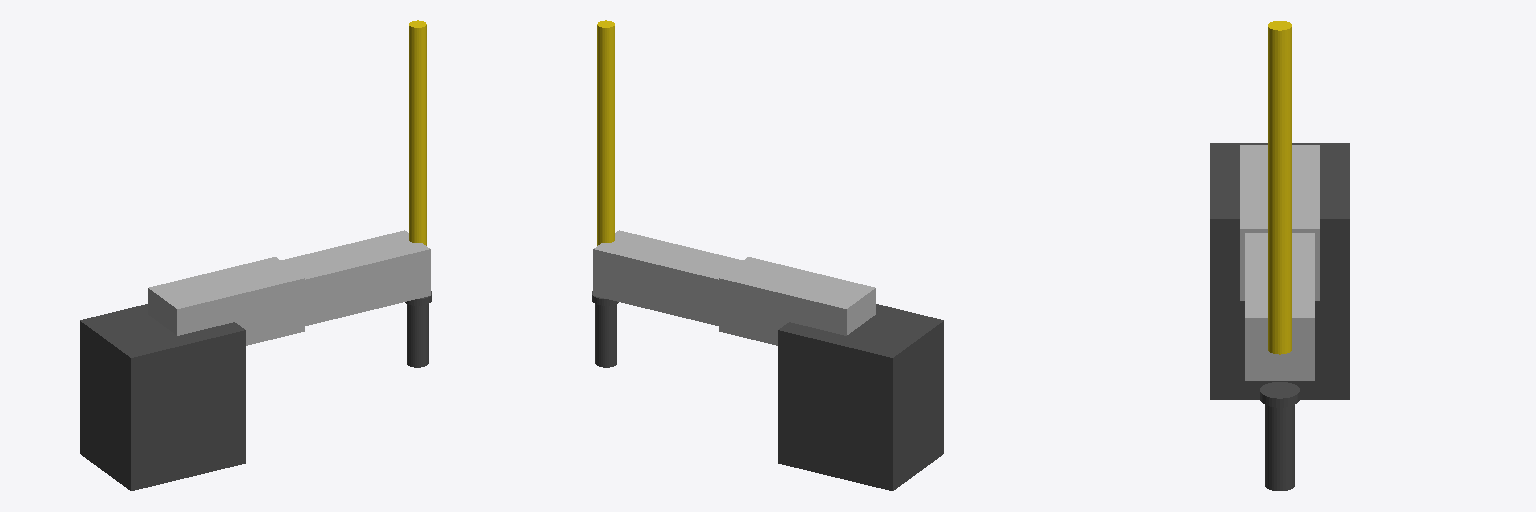
URDF robot description (scara_robot):
<?xml version="1.0"?>
<!--
  URDF de robot SCARA basado en el plano de especificaciones proporcionado.
  Origen del robot: (0, 0, 0) en la base, sobre la superficie de montaje.

  Mapeo de cotas del plano -> parámetros del modelo:
    - 200 mm (horizontal, x2)  -> longitud de link1 (J1->J2) y link2 (J2->J3) = 0.20 m c/u
    - 200 mm (base->hombro)   -> altura de base_link hasta el plano de J1/J2 = 0.20 m
    - 150 mm                  -> AJUSTE A PEDIDO DEL USUARIO: posición de la herramienta
                                  en el ORIGEN de J3 (q=0), z=0.15 m (no al ras del
                                  hombro). Se logra con un offset fijo z=-0.05 m en el
                                  origin de la junta J3 (0.20 - 0.05 = 0.15).
    - 200 mm (stroke)          -> AJUSTE A PEDIDO DEL USUARIO: recorrido de J3 = 0.20 m
                                  hacia abajo desde el origen (z=0.15), por lo que el
                                  límite superior de J3 pasa de 0.15 a 0.20 m. En el
                                  extremo del recorrido la herramienta queda en
                                  z = 0.15 - 0.20 = -0.05 m (por debajo del plano de
                                  la base): se acepta así explícitamente, aunque salga
                                  del volumen físico de la base tal como está modelada.
    - 558 mm ("Stroke of J3 axis")    -> altura total de envolvente en J3=0 (base ->
                                          tope de columna/vástago). La columna amarilla
                                          se reajustó (offset local 0.229 en vez de
                                          0.179) para seguir llegando a z=0.558 m en
                                          J3=0 pese al nuevo offset de la junta J3.

  SUPUESTOS (el plano no los acota, se agregan por ser estándar en un SCARA):
    - J1: revoluta, límite ±150° (ajustar según el modelo real)
    - J2: revoluta, límite ±150°
    - J3: prismática, recorrido de 0.15 m (arriba, origen) a -0.05 m (abajo, ver ajuste)
    - J4: revoluta de muñeca (rotación de herramienta), continua, no acotada en el plano
-->
<robot name="scara_robot">

  <material name="grey">
    <color rgba="0.75 0.75 0.75 1.0"/>
  </material>
  <material name="dark_grey">
    <color rgba="0.35 0.35 0.35 1.0"/>
  </material>
  <material name="yellow">
    <color rgba="0.9 0.8 0.1 1.0"/>
  </material>

  <!-- ================= BASE ================= -->
  <!-- Fija al mundo en (0,0,0). Altura de base = 0.20 m (cota "200" exterior) -->
  <link name="world"/>

  <joint name="base_fixed" type="fixed">
    <parent link="world"/>
    <child link="base_link"/>
    <origin xyz="0 0 0" rpy="0 0 0"/>
  </joint>

  <link name="base_link">
    <visual>
      <origin xyz="0 0 0.10" rpy="0 0 0"/>
      <geometry>
        <box size="0.18 0.14 0.20"/>
      </geometry>
      <material name="dark_grey"/>
    </visual>
    <collision>
      <origin xyz="0 0 0.10" rpy="0 0 0"/>
      <geometry>
        <box size="0.18 0.14 0.20"/>
      </geometry>
    </collision>
    <inertial>
      <origin xyz="0 0 0.10" rpy="0 0 0"/>
      <mass value="8.0"/>
      <inertia ixx="0.05" ixy="0" ixz="0" iyy="0.05" iyz="0" izz="0.05"/>
    </inertial>
  </link>

  <!-- ================= LINK 1 (J1 -> J2), 0.20 m ================= -->
  <joint name="J1" type="revolute">
    <parent link="base_link"/>
    <child link="link1"/>
    <!-- top de la base = 0.20 m, coincide con cota "200" -->
    <origin xyz="0 0 0.20" rpy="0 0 0"/>
    <axis xyz="0 0 1"/>
    <limit lower="-2.618" upper="2.618" effort="50" velocity="3.0"/>
  </joint>

  <link name="link1">
    <visual>
      <origin xyz="0.10 0 0" rpy="0 0 0"/>
      <geometry>
        <box size="0.20 0.08 0.08"/>
      </geometry>
      <material name="grey"/>
    </visual>
    <collision>
      <origin xyz="0.10 0 0" rpy="0 0 0"/>
      <geometry>
        <box size="0.20 0.08 0.08"/>
      </geometry>
    </collision>
    <inertial>
      <origin xyz="0.10 0 0" rpy="0 0 0"/>
      <mass value="3.0"/>
      <inertia ixx="0.01" ixy="0" ixz="0" iyy="0.01" iyz="0" izz="0.01"/>
    </inertial>
  </link>

  <!-- ================= LINK 2 (J2 -> J3), 0.20 m ================= -->
  <joint name="J2" type="revolute">
    <parent link="link1"/>
    <child link="link2"/>
    <origin xyz="0.20 0 0" rpy="0 0 0"/>
    <axis xyz="0 0 1"/>
    <limit lower="-2.618" upper="2.618" effort="30" velocity="3.0"/>
  </joint>

  <link name="link2">
    <visual>
      <origin xyz="0.10 0 0" rpy="0 0 0"/>
      <geometry>
        <box size="0.20 0.07 0.07"/>
      </geometry>
      <material name="grey"/>
    </visual>
    <collision>
      <origin xyz="0.10 0 0" rpy="0 0 0"/>
      <geometry>
        <box size="0.20 0.07 0.07"/>
      </geometry>
    </collision>
    <inertial>
      <origin xyz="0.10 0 0" rpy="0 0 0"/>
      <mass value="2.0"/>
      <inertia ixx="0.008" ixy="0" ixz="0" iyy="0.008" iyz="0" izz="0.008"/>
    </inertial>
  </link>

  <!-- ================= J3: PRISMÁTICA, origen z=0.15 m, stroke 0.2 m =================
       Ajuste según confirmación del usuario: en J3=0 (origen) la herramienta debe
       quedar en z=0.15 m (no en el plano de hombro z=0.20 m), por eso el origin de
       esta junta lleva el offset fijo z=-0.05 m (0.20 - 0.05 = 0.15). Desde ahí el
       stroke es de 0.2 m hacia abajo, así que el límite superior pasa de 0.15 a 0.20 m.
       Con esto, en el extremo del recorrido la herramienta llega a z=0.15-0.20=-0.05 m
       (por debajo del plano de la base): se acepta así a pedido explícito del usuario,
       aunque quede fuera del volumen físico de la base tal como está modelada. -->
  <joint name="J3" type="prismatic">
    <parent link="link2"/>
    <child link="link3"/>
    <origin xyz="0.20 0 -0.05" rpy="0 0 0"/>
    <axis xyz="0 0 -1"/>
    <limit lower="0" upper="0.20" effort="40" velocity="0.5"/>
  </joint>

  <link name="link3">
    <visual>
      <origin xyz="0 0 -0.05" rpy="0 0 0"/>
      <geometry>
        <cylinder radius="0.015" length="0.10"/>
      </geometry>
      <material name="dark_grey"/>
    </visual>
    <!-- Columna amarilla (referencia visual, cota "558"), solidaria con link3.
         Como ahora el marco de link3 en J3=0 está en z=0.15 (no 0.20), se sube el
         offset local a 0.229 (antes 0.179) para que el tope siga en z=0.15+0.229+0.179
         = 0.558 m cuando J3=0, igual que antes. -->
    <visual>
      <origin xyz="0 0 0.229" rpy="0 0 0"/>
      <geometry>
        <cylinder radius="0.012" length="0.358"/>
      </geometry>
      <material name="yellow"/>
    </visual>
    <collision>
      <origin xyz="0 0 -0.05" rpy="0 0 0"/>
      <geometry>
        <cylinder radius="0.015" length="0.10"/>
      </geometry>
    </collision>
    <inertial>
      <origin xyz="0 0 -0.05" rpy="0 0 0"/>
      <mass value="0.5"/>
      <inertia ixx="0.0005" ixy="0" ixz="0" iyy="0.0005" iyz="0" izz="0.0005"/>
    </inertial>
  </link>

  <!-- ================= J4: revoluta de muñeca (SUPUESTO, no acotada en el plano) =================
       CORRECCIÓN: antes había un offset fijo de -0.15 m aquí, ADEMÁS del recorrido
       propio de J3. Eso duplicaba el stroke de 150 mm y hacía que, con J3 al máximo,
       la herramienta quedara en -0.10 m (¡por debajo de la base, imposible!).
       Según el plano, la cota "150" ya es el recorrido completo desde la posición
       superior (herramienta a 200 mm de la base) hasta la inferior (50 mm), así que
       la brida va sin offset extra: coincide con la punta del vástago que mueve J3. -->
  <joint name="J4" type="revolute">
    <parent link="link3"/>
    <child link="tool_flange"/>
    <origin xyz="0 0 0" rpy="0 0 0"/>
    <axis xyz="0 0 1"/>
    <limit lower="-6.283" upper="6.283" effort="5" velocity="5.0"/>
  </joint>

  <link name="tool_flange">
    <visual>
      <geometry>
        <cylinder radius="0.02" length="0.01"/>
      </geometry>
      <material name="dark_grey"/>
    </visual>
    <collision>
      <geometry>
        <cylinder radius="0.02" length="0.01"/>
      </geometry>
    </collision>
    <inertial>
      <mass value="0.05"/>
      <inertia ixx="0.00001" ixy="0" ixz="0" iyy="0.00001" iyz="0" izz="0.00001"/>
    </inertial>
  </link>

</robot>

--- Facts derived from the render (not from the file) ---
The picture shows the robot from 3 angles, left to right: view 1: azimuth 30°, elevation 25°; view 2: azimuth 150°, elevation 25°; view 3: azimuth 270°, elevation 25°; orthographic projection.
Model scara_robot with 6 links and 5 joints (3 revolute, 1 prismatic, 1 fixed), rooted at world, posed every joint at zero.
Visible links, largest first — view 1: base_link, link1, link2, link3; view 2: base_link, link1, link2, link3; view 3: base_link, link3, link2, link1, tool_flange.
Boxes of the visible links, x1,y1,x2,y2 form: base_link: (80, 304, 245, 490); link1: (148, 257, 304, 345); link2: (281, 230, 430, 325); link3: (407, 20, 428, 367); base_link: (778, 304, 943, 490); link1: (719, 257, 875, 345); link2: (593, 230, 742, 325); link3: (595, 20, 616, 367); base_link: (1210, 143, 1349, 399); link3: (1265, 21, 1294, 490); link2: (1245, 233, 1314, 380); link1: (1240, 145, 1319, 300); tool_flange: (1260, 382, 1299, 407).
Size in the robot's own frame: 0.51 by 0.14 by 0.558 metres.
Geometry: primitives only (box / cylinder / sphere), no mesh files.
